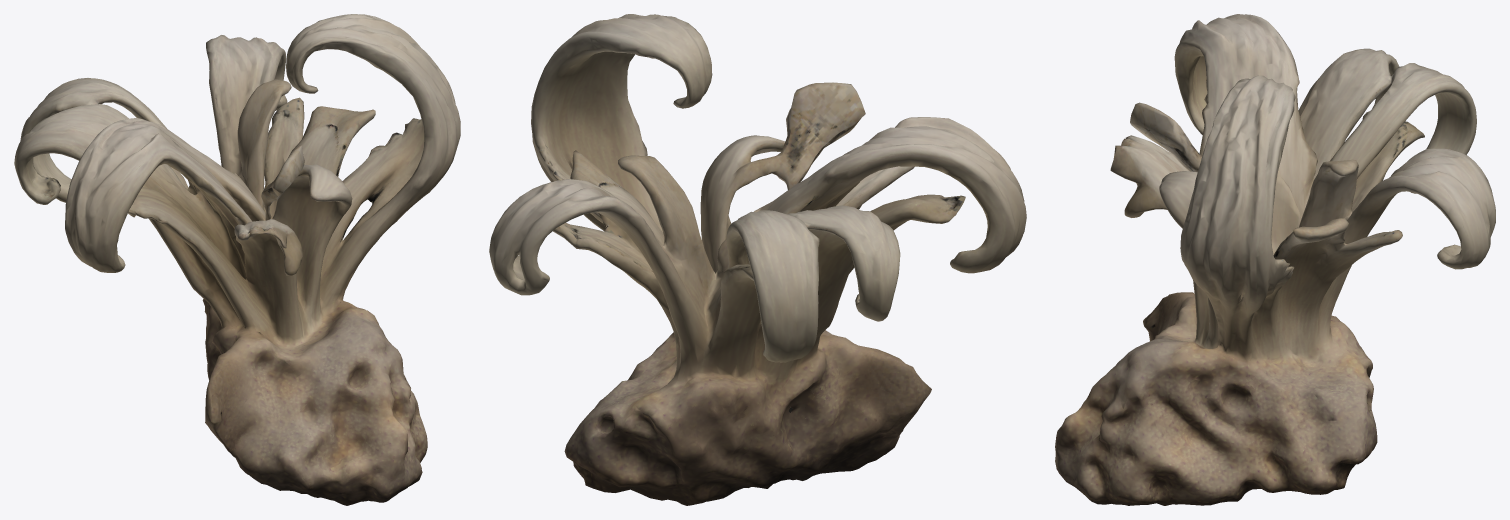
3 renders of one model, left to right at view 1: azimuth 30°, elevation 25°; view 2: azimuth 150°, elevation 25°; view 3: azimuth 270°, elevation 25°, orthographic. The views are drawn at different scales.
Visible parts, largest first — view 1: world; view 2: world; view 3: world.
Part boxes in pixels (x1,y1,x2,y2): world: (14,14,460,505); world: (489,14,1026,505); world: (1055,14,1495,505).
Size of the model in its own units: 0.841 by 0.8286 by 0.7731.
1 material, 1 textured.
